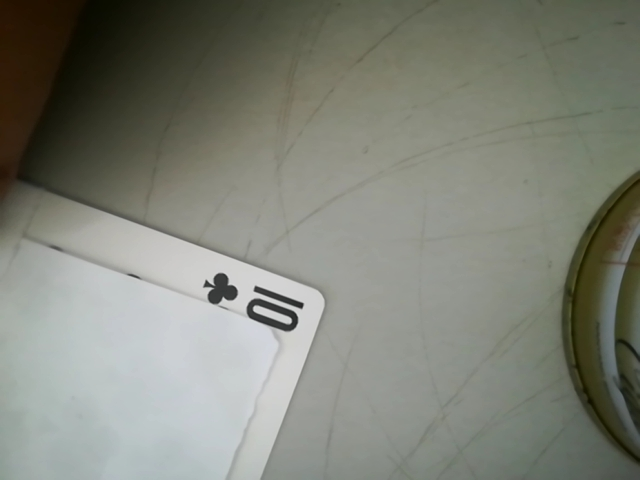mh 10: (200, 271, 317, 338)
